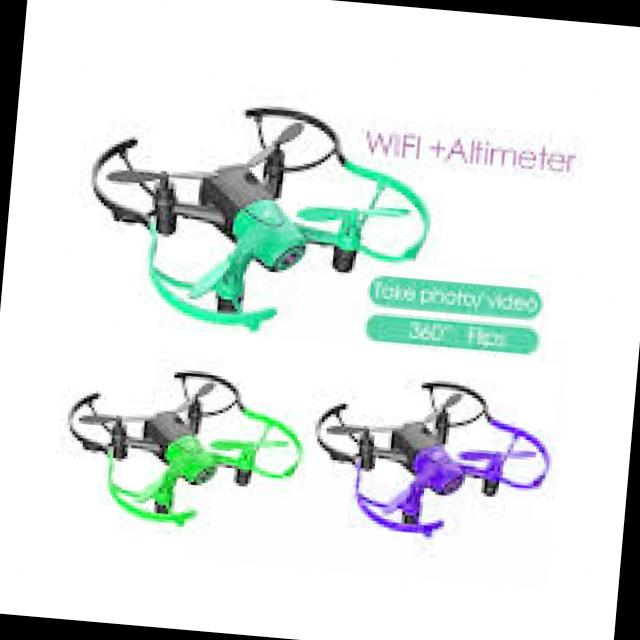drone: (61, 77, 448, 336), (46, 334, 312, 546), (308, 374, 566, 552)
